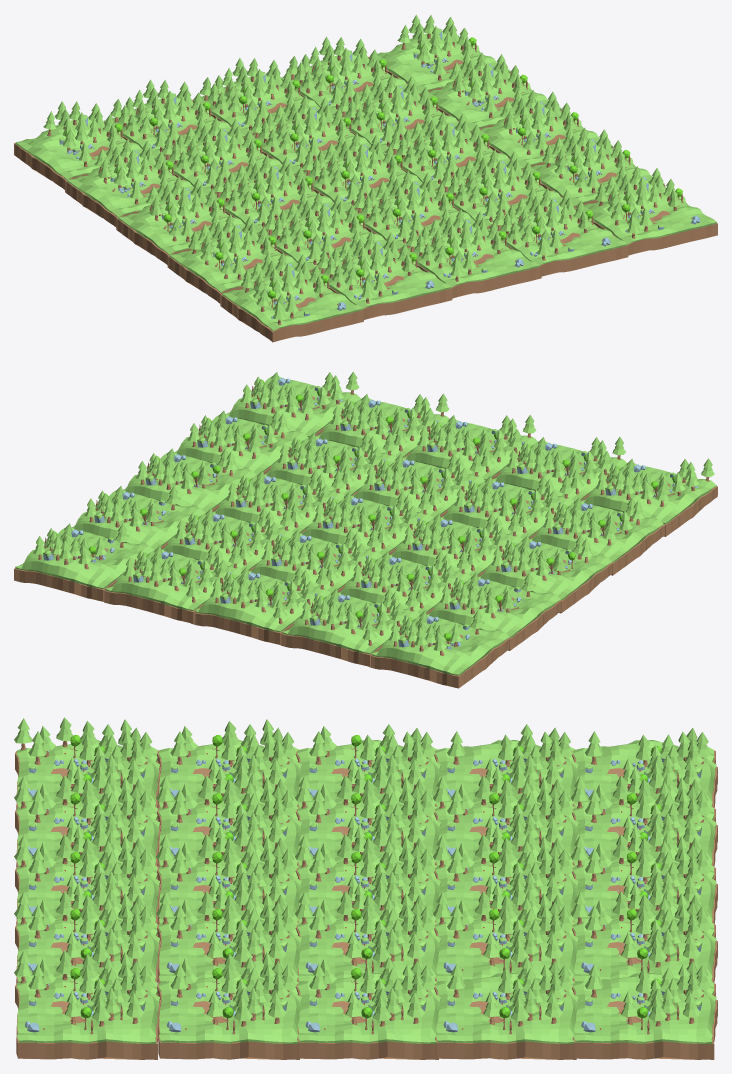
File: forest.glb
3 views of the same model, one above another, from view 1: azimuth 30°, elevation 25°; view 2: azimuth 150°, elevation 25°; view 3: azimuth 270°, elevation 25° (orthographic). The views are drawn at different scales.
Parts seen in each view (by area): view 1: GrassPlane.023, GrassPlane.018, GrassPlane.010, GrassPlane.024, GrassPlane.009, GrassPlane.011, GrassPlane.021, GrassPlane.019, GrassPlane.016, GrassPlane.020, GrassPlane.022, GrassPlane.015 (+22 smaller); view 2: GrassPlane.024, GrassPlane.019, GrassPlane.021, GrassPlane.020, GrassPlane.016, GrassPlane.015, GrassPlane.023, GrassPlane.022, GrassPlane.013, GrassPlane.012, GrassPlane.014, GrassPlane.018 (+22 smaller); view 3: GrassPlane.019, GrassPlane.016, GrassPlane.018, GrassPlane.017, GrassPlane.015, GrassPlane.014, GrassPlane.005, GrassPlane.002, GrassPlane.008, GrassPlane.011, GrassPlane.024, GrassPlane.010 (+18 smaller).
Boxes of the visible parts, bbox=[...] form: GrassPlane.023: bbox=[222, 269, 362, 331]; GrassPlane.018: bbox=[576, 183, 716, 244]; GrassPlane.010: bbox=[310, 248, 451, 308]; GrassPlane.024: bbox=[15, 118, 156, 179]; GrassPlane.009: bbox=[400, 226, 539, 287]; GrassPlane.011: bbox=[487, 205, 627, 265]; GrassPlane.021: bbox=[67, 155, 207, 217]; GrassPlane.019: bbox=[370, 32, 510, 92]; GrassPlane.016: bbox=[421, 69, 561, 130]; GrassPlane.020: bbox=[118, 193, 258, 255]; GrassPlane.022: bbox=[169, 231, 310, 292]; GrassPlane.015: bbox=[472, 106, 612, 168]; GrassPlane.024: bbox=[370, 614, 509, 675]; GrassPlane.019: bbox=[15, 528, 153, 588]; GrassPlane.021: bbox=[427, 577, 560, 637]; GrassPlane.020: bbox=[479, 539, 612, 600]; GrassPlane.016: bbox=[71, 490, 205, 549]; GrassPlane.015: bbox=[123, 452, 256, 512]; GrassPlane.023: bbox=[581, 463, 716, 524]; GrassPlane.022: bbox=[529, 501, 663, 562]; GrassPlane.013: bbox=[282, 593, 419, 654]; GrassPlane.012: bbox=[195, 571, 330, 632]; GrassPlane.014: bbox=[105, 550, 242, 610]; GrassPlane.018: bbox=[225, 376, 360, 436]; GrassPlane.019: bbox=[573, 973, 716, 1043]; GrassPlane.016: bbox=[435, 973, 578, 1043]; GrassPlane.018: bbox=[16, 973, 159, 1043]; GrassPlane.017: bbox=[158, 973, 301, 1043]; GrassPlane.015: bbox=[297, 973, 440, 1043]; GrassPlane.014: bbox=[573, 914, 716, 982]; GrassPlane.005: bbox=[435, 914, 578, 982]; GrassPlane.002: bbox=[297, 914, 440, 982]; GrassPlane.008: bbox=[158, 914, 301, 982]; GrassPlane.011: bbox=[16, 914, 159, 982]; GrassPlane.024: bbox=[573, 740, 716, 807]; GrassPlane.010: bbox=[16, 798, 159, 866].
Size of the model in its own units: 81.52 by 8.46 by 81.97.
